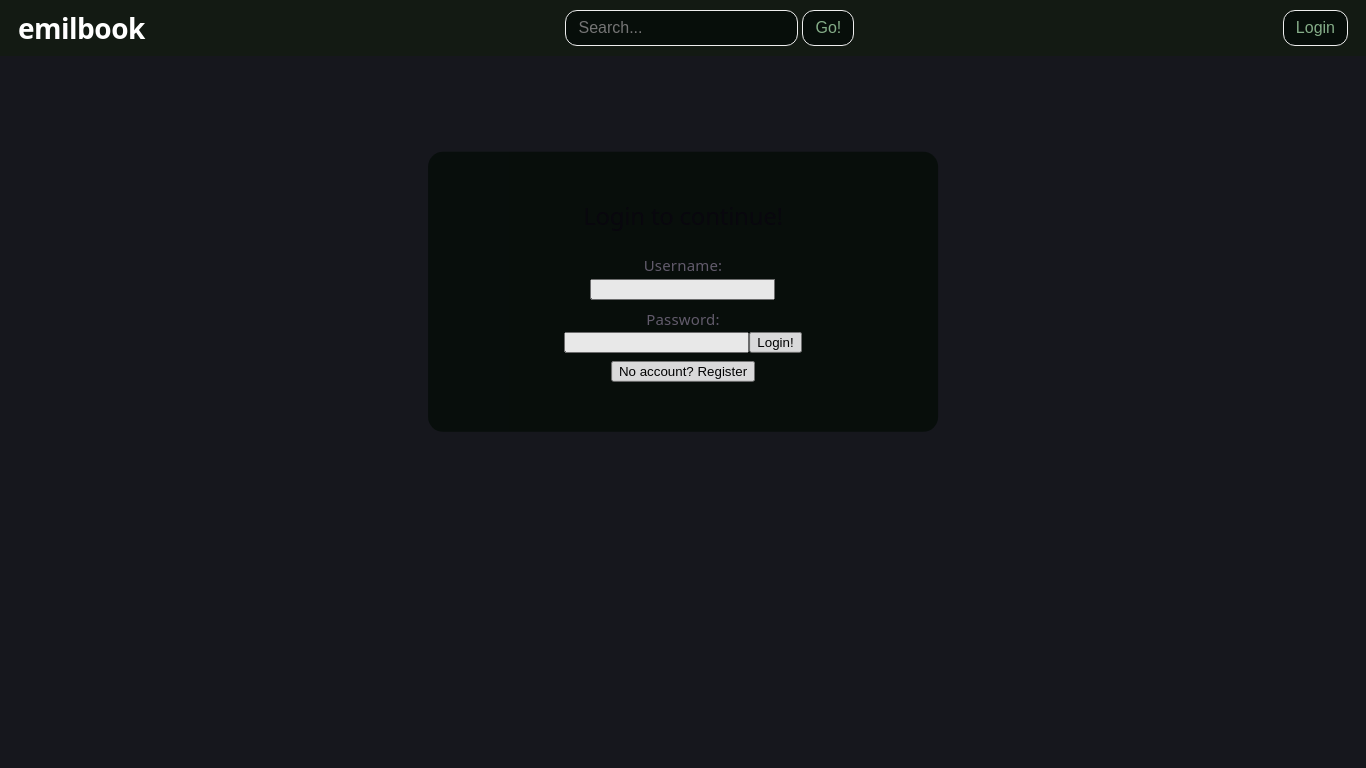
Registrering › visar fel om användarnamnet redan finns
The width and height of the screenshot is (1366, 768).
Click the button "No account? Register": x=683, y=372 611,361 -> 755,382
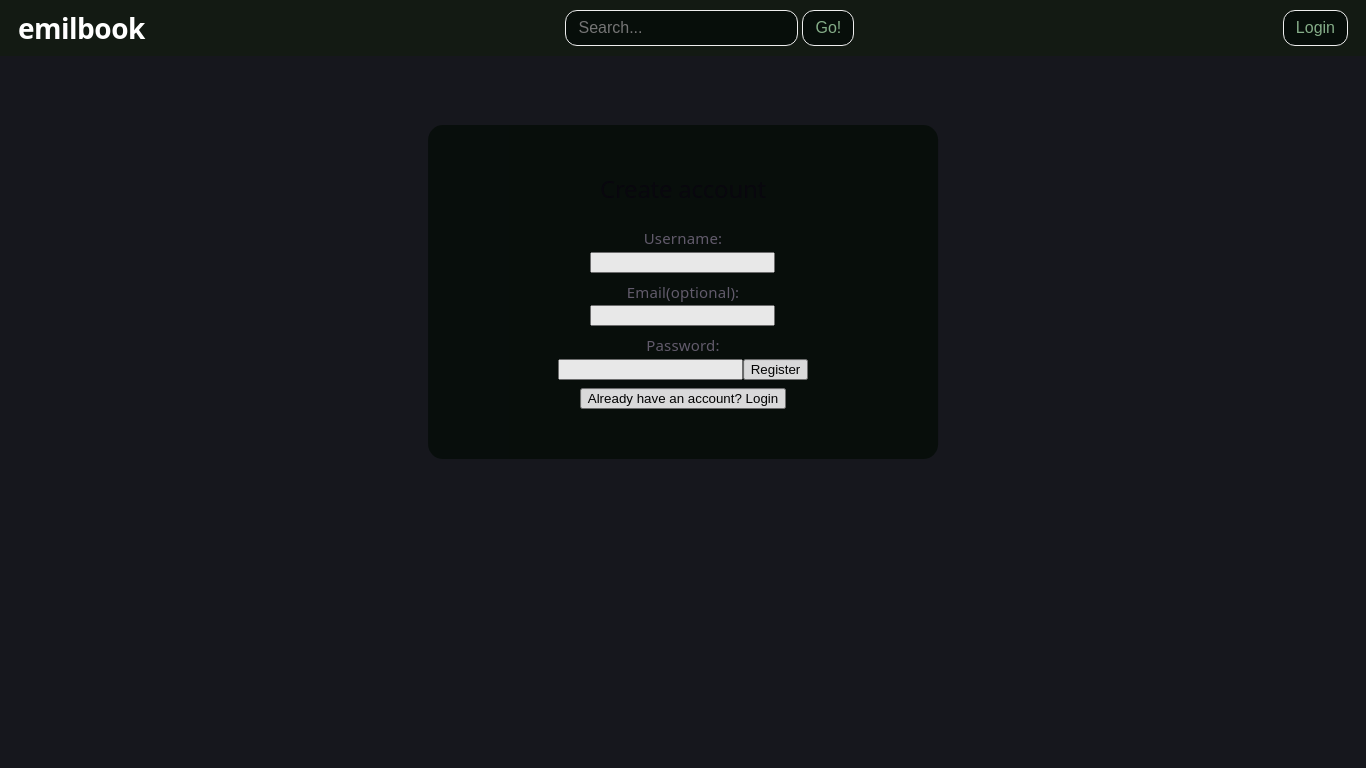
In the field with id "username": x=684, y=263 591,252 -> 776,273, type "existinguser"
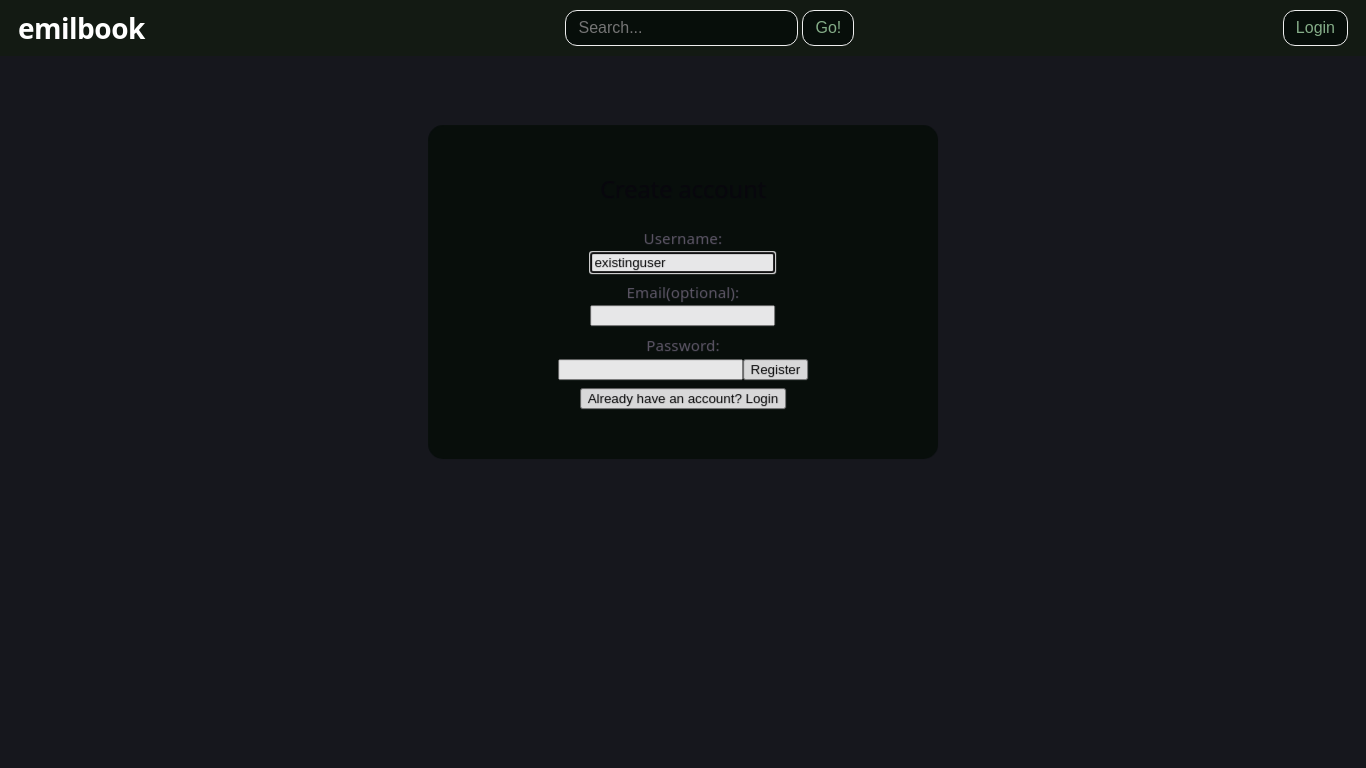
In the password field labelled "Password:": x=651, y=370 558,359 -> 743,380, type "somepass123"
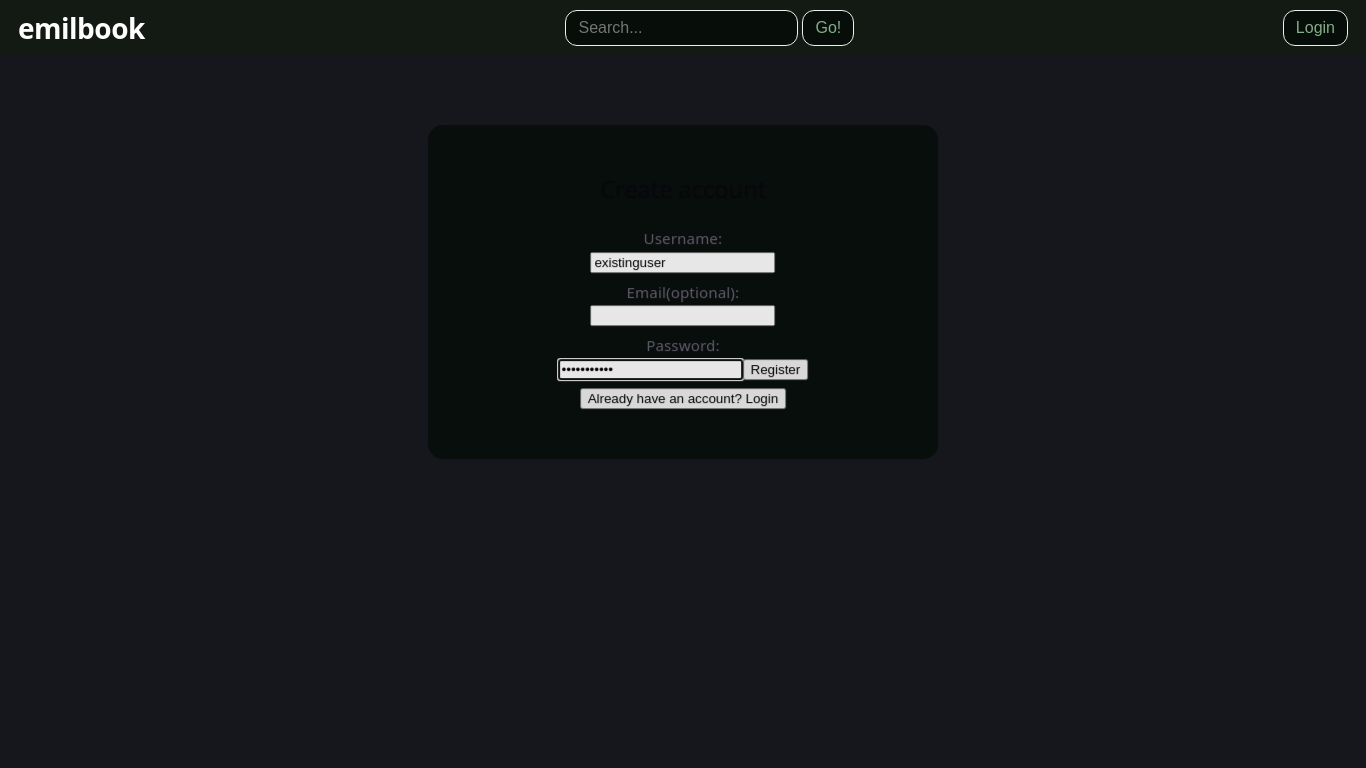
Click the button with class "submit-button": x=776, y=370 743,359 -> 809,380
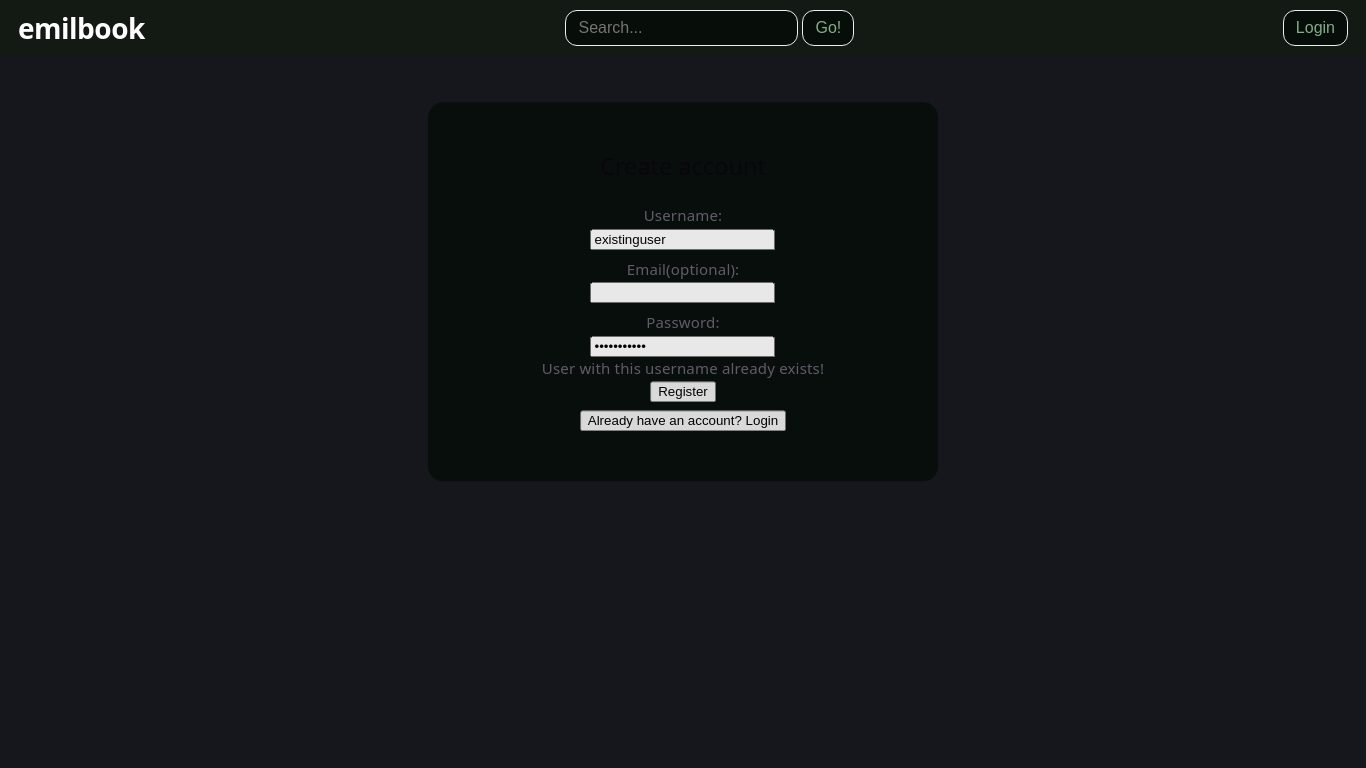
Expected: the text with class "error-message" reads "User with this username already exists!", 542,358 -> 824,378
